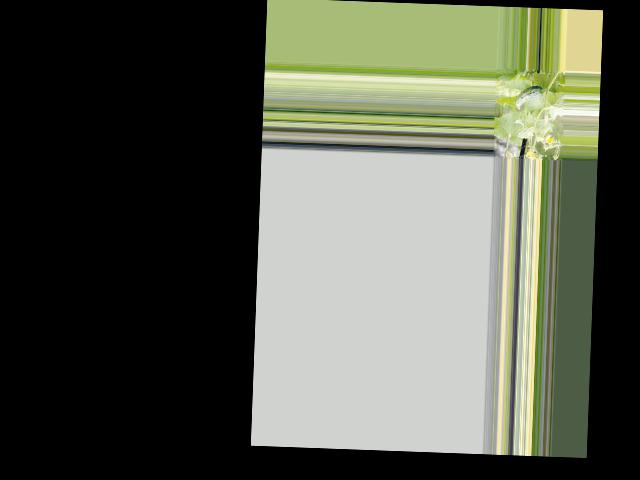cucumber: (515, 85, 544, 110)
